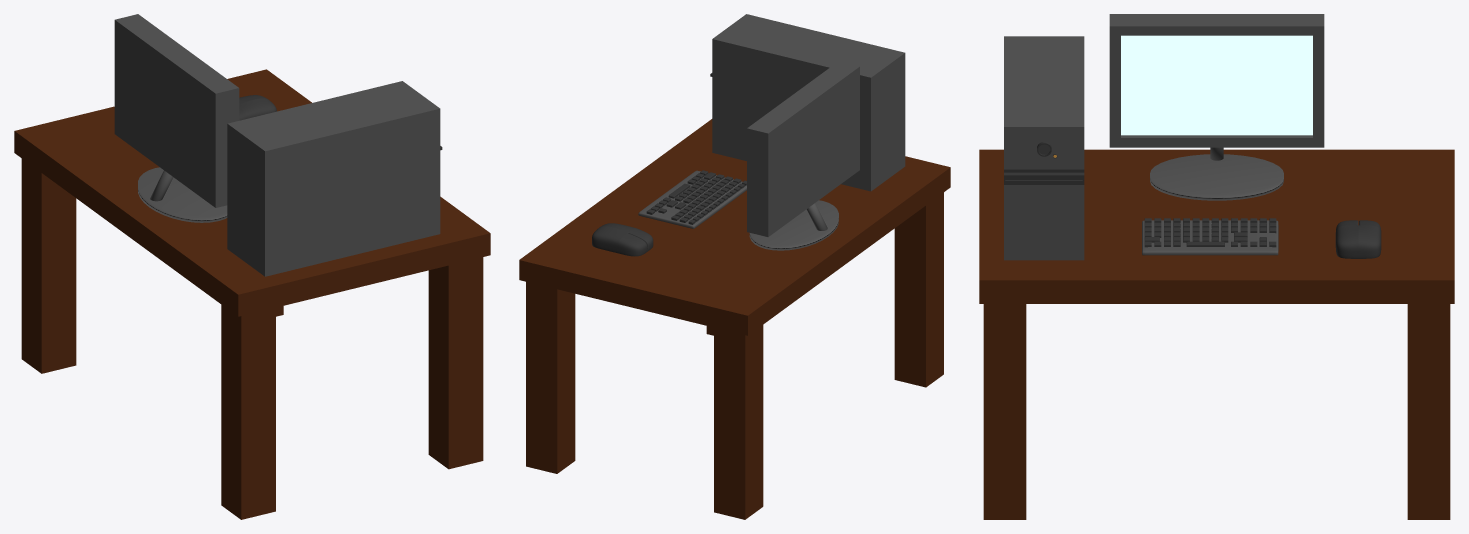
The model's file is ComputerTable.fbx.
The picture shows the model from 3 angles, left to right: view 1: azimuth 30°, elevation 25°; view 2: azimuth 150°, elevation 25°; view 3: azimuth 270°, elevation 25°; orthographic projection. The views are drawn at different scales.
Parts seen in each view (by area): view 1: Cube.008, Cube.004, Cube.005, Cube, Cube.001, Cube.003, Cylinder, Cube.006; view 2: Cube.004, Cube.008, Cube.005, Cube.003, Cube.002, Cube.001, Cube.007, Cylinder, Cube.006; view 3: Cube.004, Cube.005, Cube.008, Cube, Cube.002, Cube.007, Cylinder, Cube.006.
Part boxes in pixels (x1=…): Cube.008: x1=227, y1=81, x2=442, y2=276; Cube.004: x1=14, y1=69, x2=490, y2=316; Cube.005: x1=114, y1=14, x2=239, y2=207; Cube: x1=428, y1=257, x2=483, y2=469; Cube.001: x1=221, y1=304, x2=275, y2=519; Cube.003: x1=21, y1=158, x2=76, y2=373; Cylinder: x1=138, y1=167, x2=227, y2=222; Cube.006: x1=239, y1=95, x2=276, y2=120; Cube.004: x1=519, y1=119, x2=950, y2=335; Cube.008: x1=710, y1=14, x2=905, y2=191; Cube.005: x1=747, y1=61, x2=859, y2=236; Cube.003: x1=714, y1=325, x2=763, y2=519; Cube.002: x1=526, y1=282, x2=575, y2=473; Cube.001: x1=894, y1=192, x2=943, y2=387; Cube.007: x1=638, y1=170, x2=746, y2=228; Cylinder: x1=749, y1=200, x2=838, y2=250; Cube.006: x1=592, y1=223, x2=653, y2=256; Cube.004: x1=979, y1=149, x2=1454, y2=303; Cube.005: x1=1109, y1=14, x2=1324, y2=147; Cube.008: x1=1004, y1=36, x2=1084, y2=260; Cube: x1=983, y1=304, x2=1026, y2=519; Cube.002: x1=1407, y1=304, x2=1450, y2=519; Cube.007: x1=1142, y1=218, x2=1278, y2=255; Cylinder: x1=1150, y1=154, x2=1283, y2=200; Cube.006: x1=1335, y1=220, x2=1381, y2=258.
Bounding box in the file's own units: 599 × 850 × 920.
